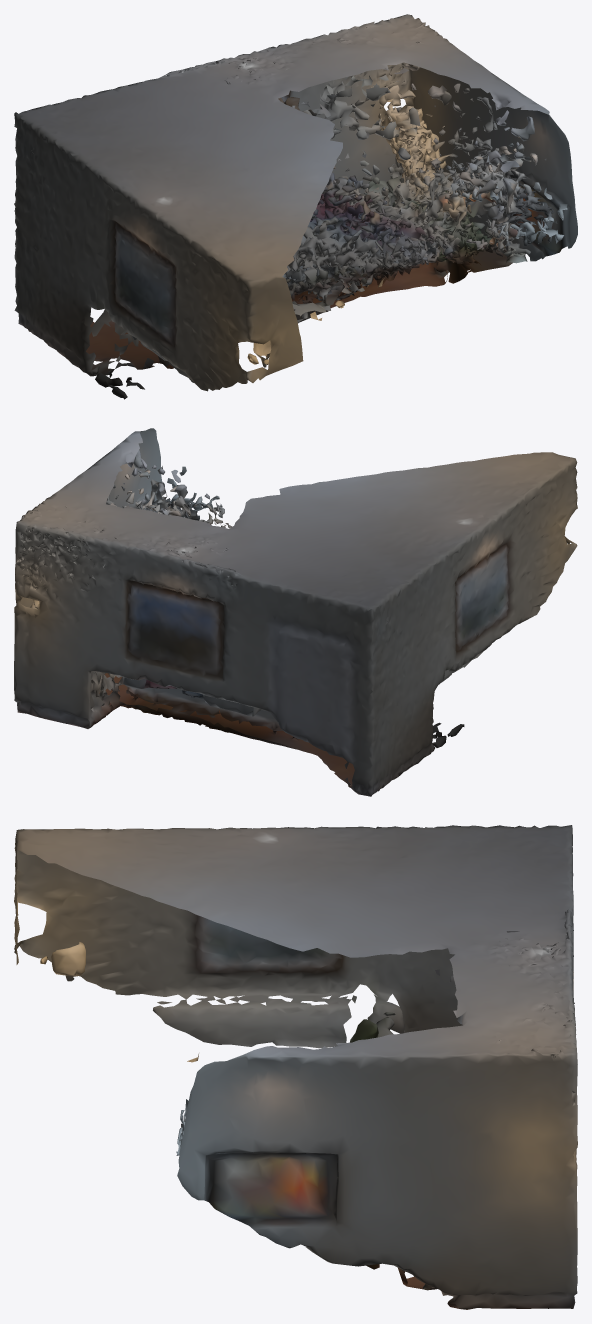
File: rtab_estimated.glb
3 views of the same model, one above another, from view 1: azimuth 30°, elevation 25°; view 2: azimuth 150°, elevation 25°; view 3: azimuth 270°, elevation 25° (orthographic). The views are drawn at different scales.
Size of the model in its own units: 4.95 by 2.57 by 5.03.
